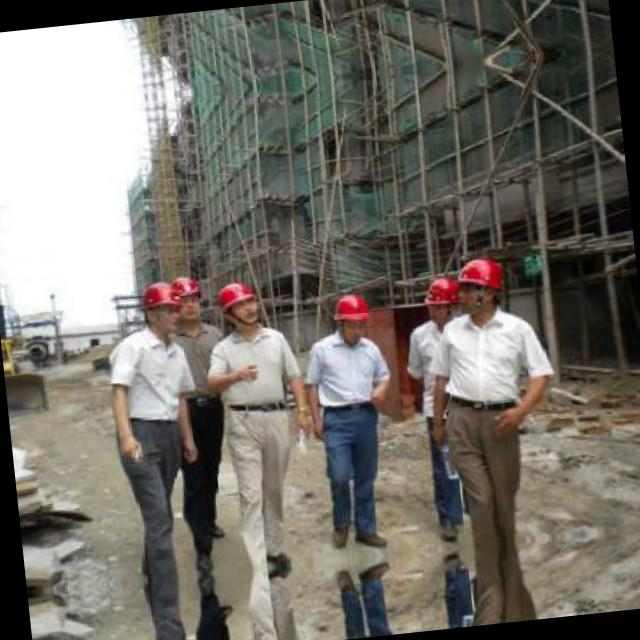helmet: (452, 255, 509, 320), (210, 274, 266, 334), (137, 278, 188, 337), (420, 274, 462, 328), (330, 292, 375, 342), (170, 274, 202, 324)
